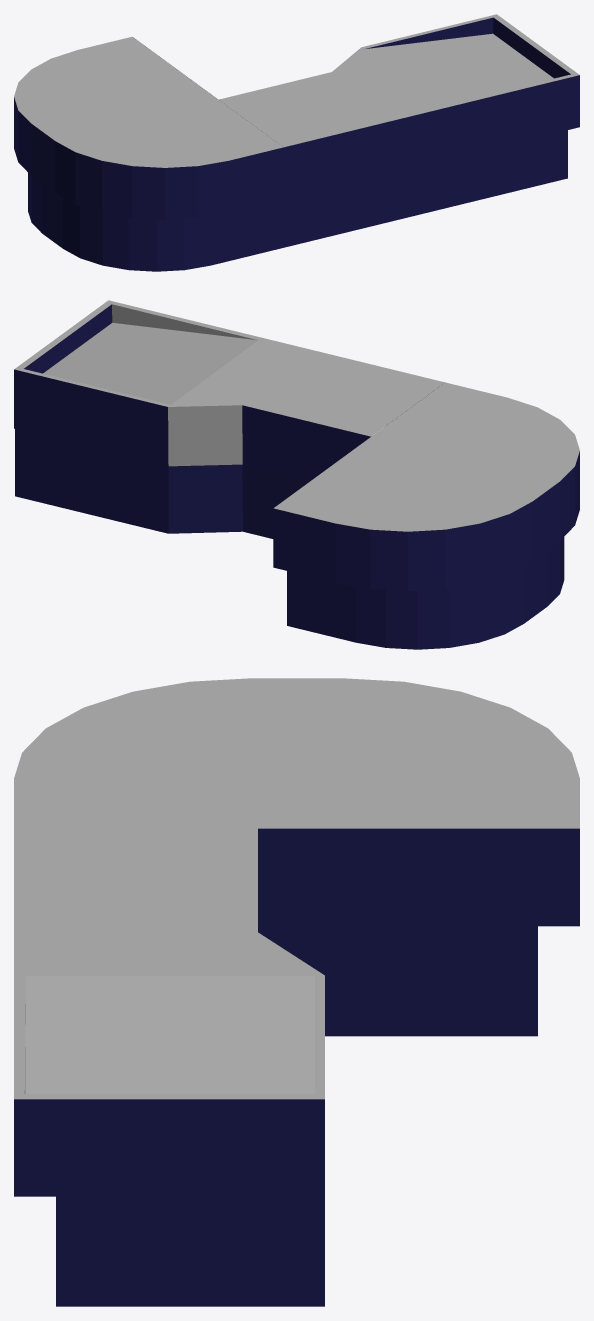
File: Meja kasir kiri.fbx
3 views of the same model, one above another, from view 1: azimuth 30°, elevation 25°; view 2: azimuth 150°, elevation 25°; view 3: azimuth 270°, elevation 25° (orthographic). The views are drawn at different scales.
Parts seen in each view (by area): view 1: Circle.028; view 2: Circle.028; view 3: Circle.028.
Part boxes in pixels (left/top/right/bottom): Circle.028: left=14, top=14, right=579, bottom=271; Circle.028: left=14, top=300, right=579, bottom=649; Circle.028: left=14, top=678, right=579, bottom=1306.
Bounding box in the file's own units: 463 × 107 × 263.
